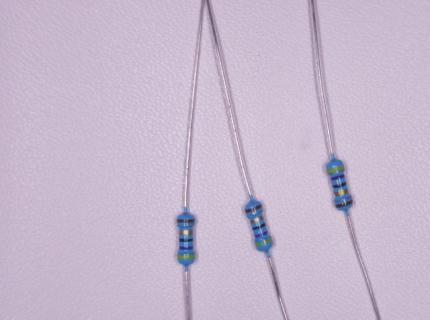Gold band: (250, 215, 264, 224), (333, 189, 349, 196), (179, 230, 193, 236)
Violet band: (254, 230, 269, 238), (330, 174, 345, 182), (179, 245, 194, 250)
Yellow band: (255, 238, 273, 248), (326, 165, 345, 174), (177, 254, 196, 259)
